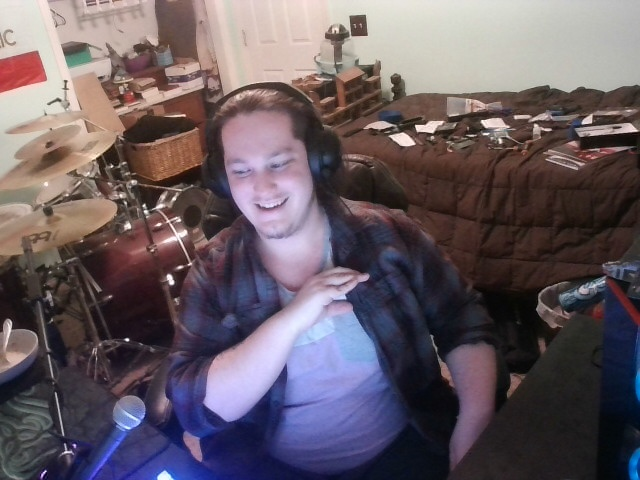police: (283, 260, 391, 341)
